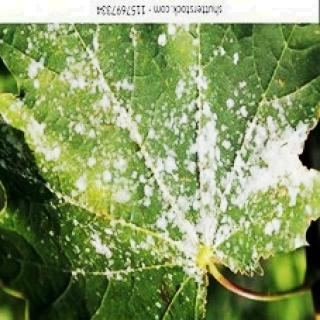grey mildew: (5, 29, 315, 268)
